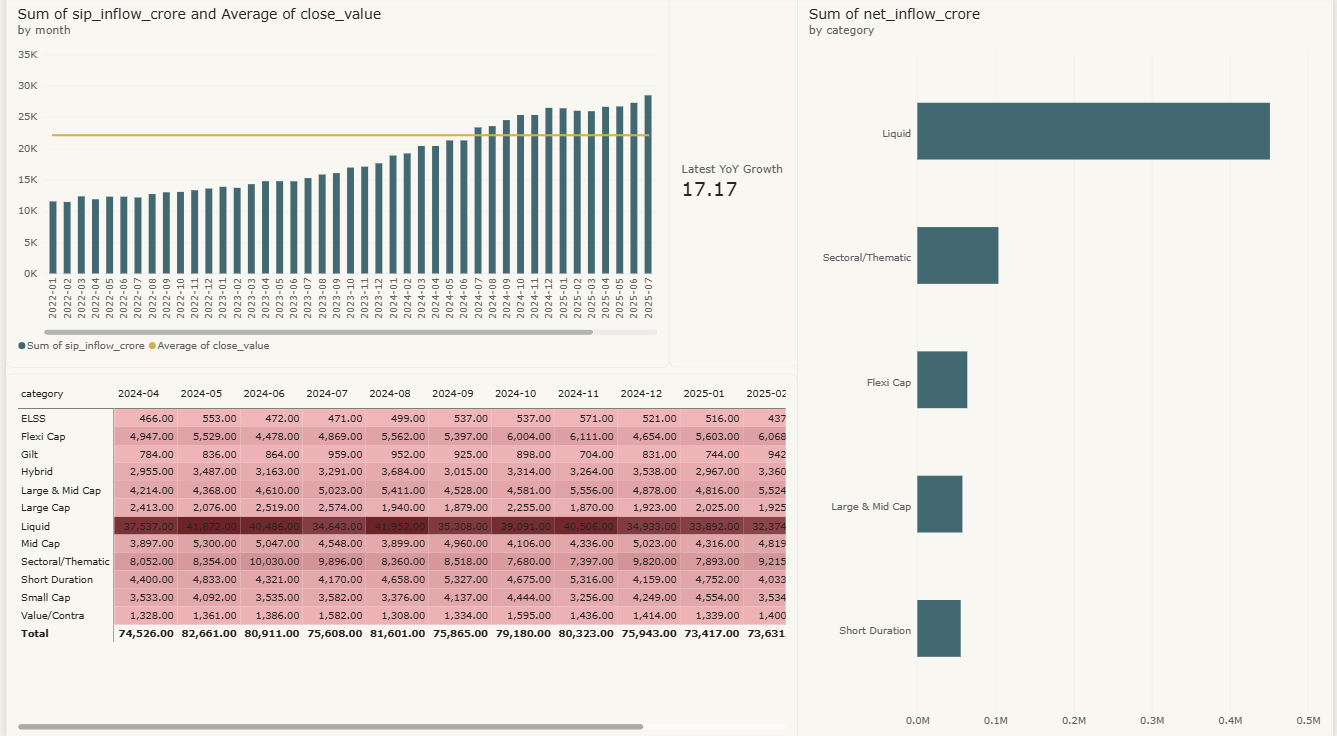

What the dashboard file says about the page in this screenshot:
{"tool":"powerbi","page":{"name":"SIP & Market trends","canvas":[1920,1080],"ordinal":3},"visuals":[{"type":"lineClusteredColumnComboChart","fields":{"Category":["clean_sip_inflows.month"],"Y":["Sum(clean_sip_inflows.sip_inflow_crore)"],"Y2":["Avg(clean_benchmark.close_value)"]},"box":[0,0,960.2,539.4],"z":0},{"type":"pivotTable","fields":{"Columns":["clean_category_inflows.month"],"Rows":["clean_category_inflows.category"],"Values":["Sum(clean_category_inflows.net_inflow_crore)"]},"box":[0,548.1,1145.8,533],"z":1000},{"type":"clusteredBarChart","fields":{"Category":["clean_category_inflows.category"],"Y":["Sum(clean_category_inflows.net_inflow_crore)"]},"box":[1145.8,0,774.6,1081.1],"z":2000},{"type":"cardVisual","fields":{"Data":["clean_sip_inflows.Latest YoY Growth"]},"box":[960.2,0,185.6,539.4],"z":3000}]}

Visuals, with their boxes in screenshot pixels (x1, y1, x2, y2), scaled from the page's 1920x1080 canvas onto the 1337x736 screenshot:
lineClusteredColumnComboChart - clean_sip_inflows.month x Sum(clean_sip_inflows.sip_inflow_crore): box(0, 0, 669, 368)
pivotTable - clean_category_inflows.month x clean_category_inflows.category: box(0, 374, 798, 735)
clusteredBarChart - clean_category_inflows.category x Sum(clean_category_inflows.net_inflow_crore): box(798, 0, 1336, 735)
cardVisual - clean_sip_inflows.Latest YoY Growth: box(669, 0, 798, 368)
